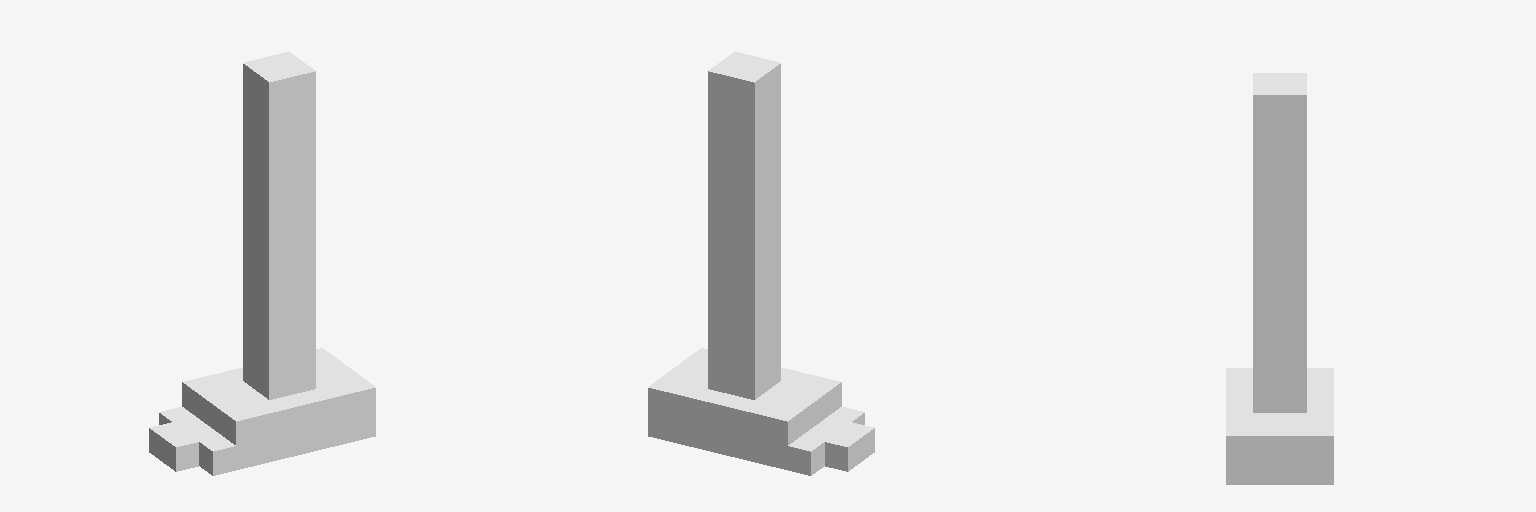
Rendered from robo_leg.obj.
3 renders of one model, left to right at view 1: azimuth 30°, elevation 25°; view 2: azimuth 150°, elevation 25°; view 3: azimuth 270°, elevation 25°, orthographic.
Visible parts, largest first — view 1: object 1; view 2: object 1; view 3: object 1.
Part boxes in pixels (bbox=[...]): object 1: bbox=[149, 52, 375, 475]; object 1: bbox=[648, 52, 874, 475]; object 1: bbox=[1226, 73, 1333, 484].
Size of the model in its own units: 0.8 by 1.5 by 0.4.